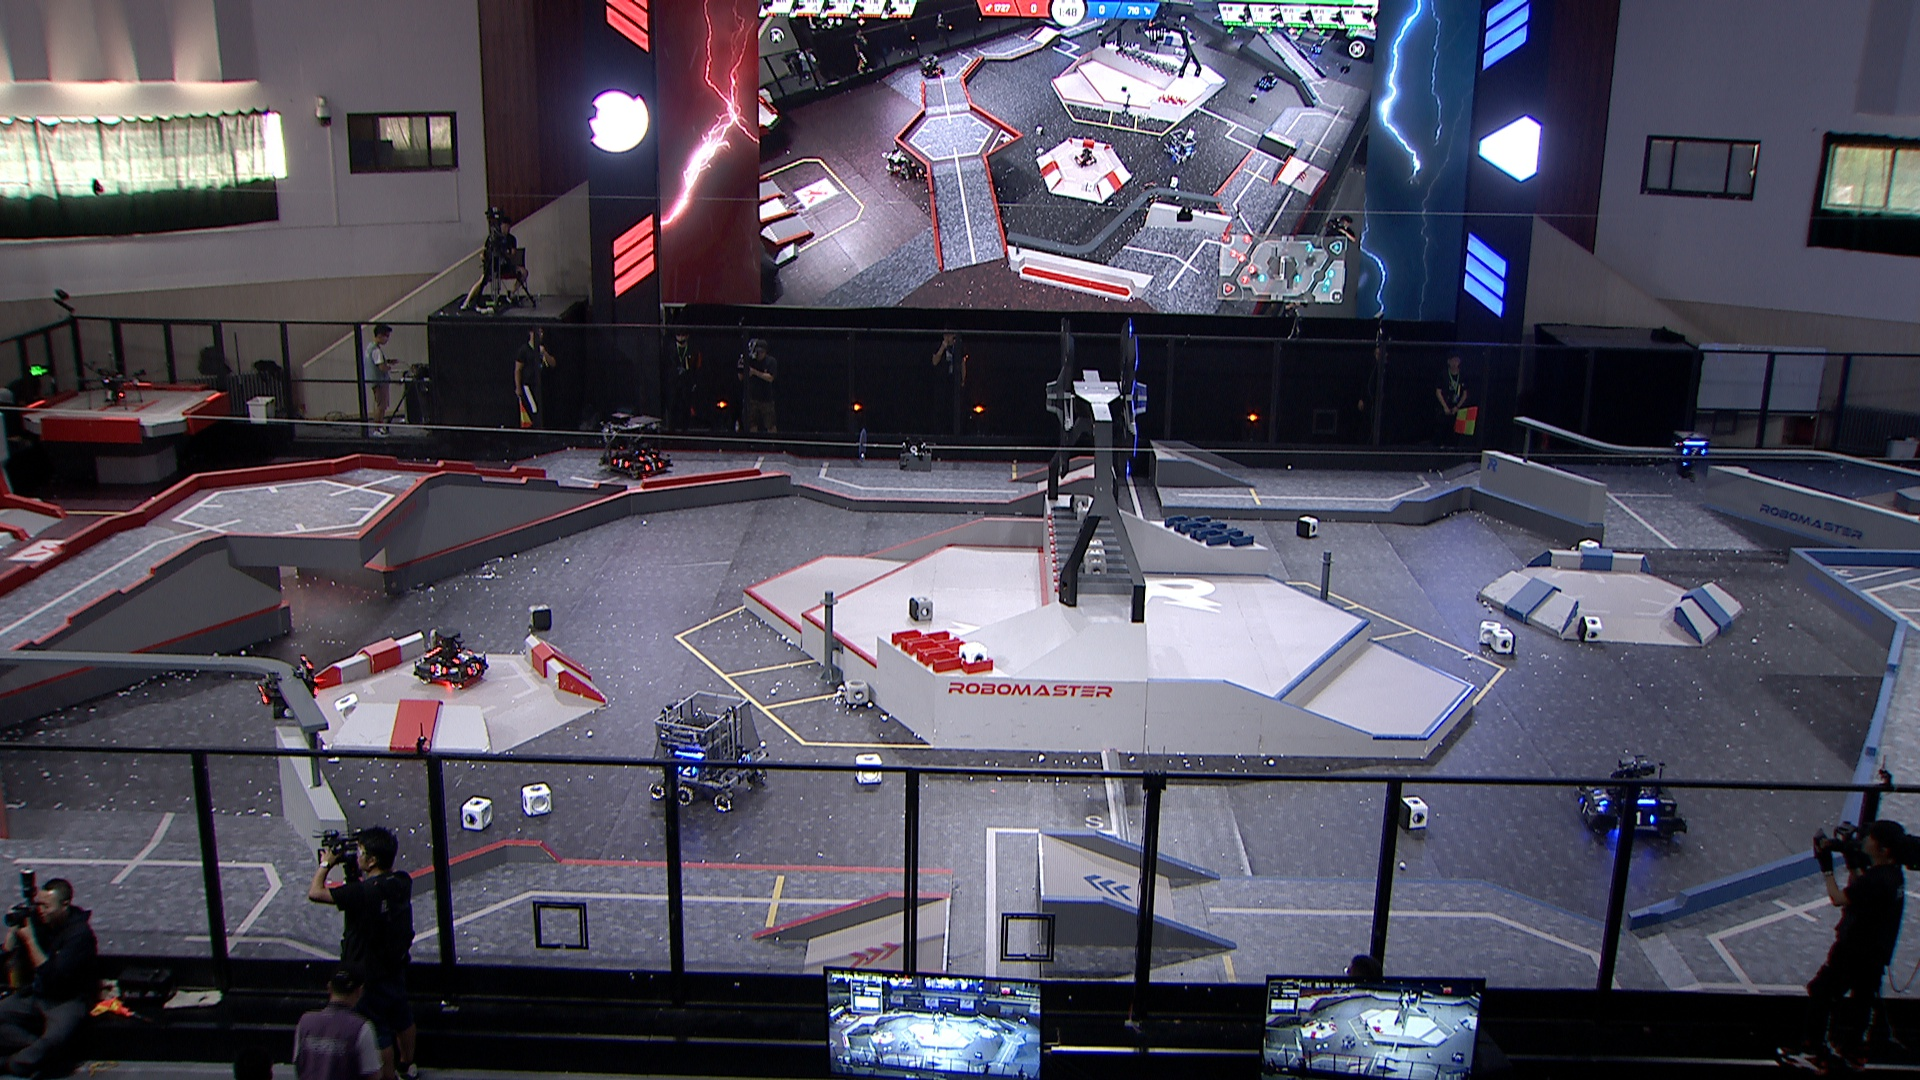armor: (1576, 796, 1596, 818), (255, 683, 272, 707), (1634, 811, 1658, 828), (1590, 789, 1609, 807), (1680, 446, 1708, 458), (452, 650, 475, 665), (429, 662, 448, 678), (678, 765, 702, 778), (612, 456, 632, 471), (645, 462, 665, 475), (736, 752, 754, 765), (465, 665, 483, 678), (638, 454, 659, 463)
car: (645, 688, 769, 816), (1575, 757, 1688, 847), (599, 413, 676, 481), (411, 626, 491, 690)
ignore: (884, 144, 927, 185), (1164, 129, 1199, 164), (918, 51, 944, 79), (1073, 148, 1098, 171), (1145, 181, 1164, 207), (1253, 73, 1276, 91), (1309, 41, 1325, 54)
watcher: (253, 655, 320, 723), (1673, 433, 1712, 484)
